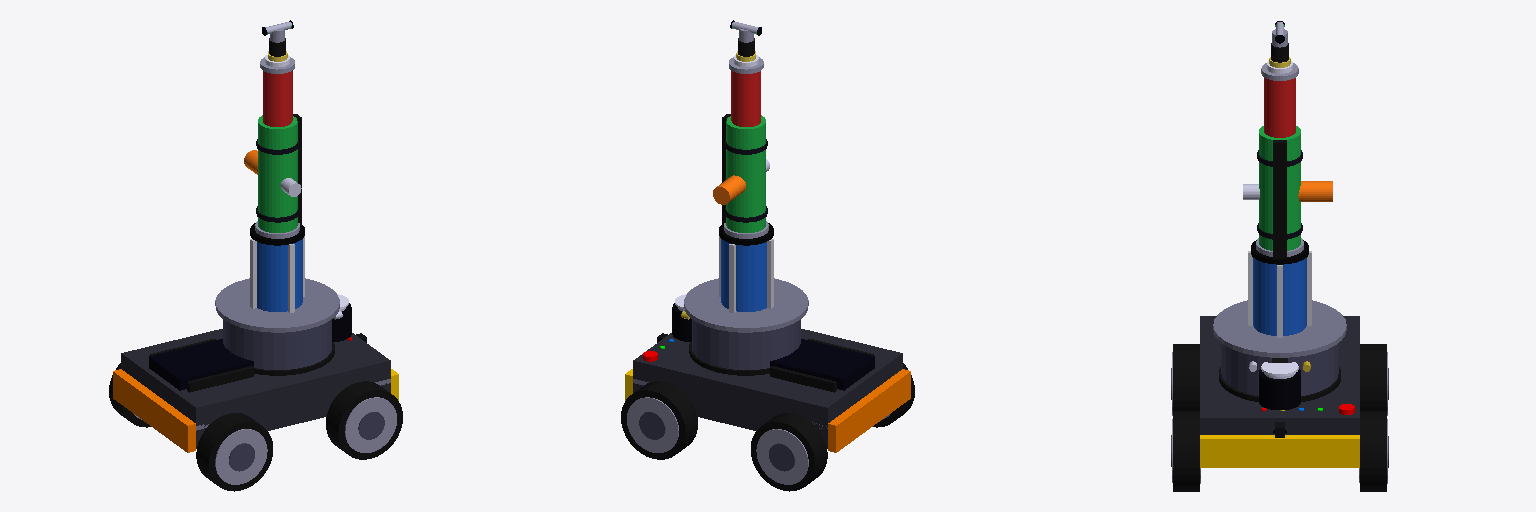
--- Render facts (derived) ---
Views: 3 orthographic renders of the robot side by side, from view 1: azimuth 30°, elevation 25°; view 2: azimuth 150°, elevation 25°; view 3: azimuth 270°, elevation 25°.
Model mobile_manipulator with 20 links and 19 joints (4 revolute, 5 continuous, 2 prismatic, 8 fixed), rooted at base_footprint, posed all joints at 0.
Links seen in each view (by area): view 1: chassis, arm_base_mount, arm_link_2, front_right_wheel, rear_right_wheel, arm_link_1, arm_link_3, lidar_3d_sensor; view 2: chassis, arm_base_mount, arm_link_2, front_left_wheel, rear_left_wheel, arm_link_1, arm_link_3, lidar_3d_sensor; view 3: chassis, arm_base_mount, arm_link_2, arm_link_1, arm_link_3, front_left_wheel, front_right_wheel, rear_left_wheel, rear_right_wheel, lidar_3d_sensor.
Boxes of the visible links, <box> form: chassis: <box>113,329,398,452</box>; arm_base_mount: <box>215,278,342,375</box>; arm_link_2: <box>244,114,301,232</box>; front_right_wheel: <box>326,381,402,459</box>; rear_right_wheel: <box>196,413,272,491</box>; arm_link_1: <box>250,221,304,312</box>; arm_link_3: <box>260,51,294,126</box>; lidar_3d_sensor: <box>332,294,351,341</box>; chassis: <box>625,329,910,452</box>; arm_base_mount: <box>681,278,808,375</box>; arm_link_2: <box>713,114,769,232</box>; front_left_wheel: <box>621,381,697,459</box>; rear_left_wheel: <box>751,413,827,491</box>; arm_link_1: <box>719,221,773,312</box>; arm_link_3: <box>729,51,763,126</box>; lidar_3d_sensor: <box>672,294,691,341</box>; chassis: <box>1200,316,1359,467</box>; arm_base_mount: <box>1213,300,1346,401</box>; arm_link_2: <box>1243,126,1332,258</box>; arm_link_1: <box>1248,238,1311,337</box>; arm_link_3: <box>1261,57,1298,137</box>; front_left_wheel: <box>1359,411,1388,491</box>; front_right_wheel: <box>1171,411,1200,491</box>; rear_left_wheel: <box>1360,344,1388,415</box>; rear_right_wheel: <box>1171,344,1199,415</box>; lidar_3d_sensor: <box>1259,362,1300,409</box>.
Bounding box of the posed robot: 0.99 × 0.8201 × 1.81 m (x, y, z).
Geometry: primitives only (box / cylinder / sphere), no mesh files.

URDF robot description (mobile_manipulator):
<?xml version="1.0"?>
<robot name="mobile_manipulator">

  <!-- Base Footprint - Virtual ground reference -->
  <link name="base_footprint">
    <!-- Virtual link for navigation -->
  </link>

  <!-- Advanced Chassis with Environmental Protection -->
  <link name="chassis">
    <!-- Main chassis body - ruggedized design -->
    <visual>
      <origin xyz="0 0 0.12" rpy="0 0 0"/>
      <geometry>
        <box size="0.9 0.6 0.18"/>
      </geometry>
      <material name="chassis_carbon_fiber">
        <color rgba="0.2 0.2 0.25 1.0"/>
      </material>
    </visual>
    
    <!-- Reinforcement ribs -->
    <visual>
      <origin xyz="0.4 0 0.12" rpy="0 0 0"/>
      <geometry>
        <box size="0.1 0.6 0.02"/>
      </geometry>
      <material name="reinforcement_steel">
        <color rgba="0.5 0.5 0.6 1.0"/>
      </material>
    </visual>
    
    <visual>
      <origin xyz="-0.4 0 0.12" rpy="0 0 0"/>
      <geometry>
        <box size="0.1 0.6 0.02"/>
      </geometry>
      <material name="reinforcement_steel">
        <color rgba="0.5 0.5 0.6 1.0"/>
      </material>
    </visual>
    
    <!-- Advanced front bumper with sensors -->
    <visual>
      <origin xyz="0.47 0 0.08" rpy="0 0 0"/>
      <geometry>
        <box size="0.04 0.6 0.12"/>
      </geometry>
      <material name="safety_yellow">
        <color rgba="1.0 0.8 0.0 1.0"/>
      </material>
    </visual>
    
    <!-- Rear bumper with reflectors -->
    <visual>
      <origin xyz="-0.47 0 0.08" rpy="0 0 0"/>
      <geometry>
        <box size="0.04 0.6 0.12"/>
      </geometry>
      <material name="safety_orange">
        <color rgba="1.0 0.5 0.0 1.0"/>
      </material>
    </visual>
    
    <!-- Emergency stop mushroom button -->
    <visual>
      <origin xyz="0.4 0.25 0.22" rpy="0 0 0"/>
      <geometry>
        <cylinder radius="0.03" length="0.02"/>
      </geometry>
      <material name="emergency_red">
        <color rgba="1.0 0.0 0.0 1.0"/>
      </material>
    </visual>
    
    <!-- Status LED array -->
    <visual>
      <origin xyz="0.4 0.15 0.22" rpy="0 0 0"/>
      <geometry>
        <cylinder radius="0.01" length="0.005"/>
      </geometry>
      <material name="led_power_green">
        <color rgba="0.0 1.0 0.0 1.0"/>
      </material>
    </visual>
    
    <visual>
      <origin xyz="0.4 0.08 0.22" rpy="0 0 0"/>
      <geometry>
        <cylinder radius="0.01" length="0.005"/>
      </geometry>
      <material name="led_network_blue">
        <color rgba="0.0 0.5 1.0 1.0"/>
      </material>
    </visual>
    
    <visual>
      <origin xyz="0.4 0.01 0.22" rpy="0 0 0"/>
      <geometry>
        <cylinder radius="0.01" length="0.005"/>
      </geometry>
      <material name="led_status_yellow">
        <color rgba="1.0 1.0 0.0 1.0"/>
      </material>
    </visual>
    
    <visual>
      <origin xyz="0.4 -0.06 0.22" rpy="0 0 0"/>
      <geometry>
        <cylinder radius="0.01" length="0.005"/>
      </geometry>
      <material name="led_error_red">
        <color rgba="1.0 0.0 0.0 1.0"/>
      </material>
    </visual>
    
    <!-- Advanced battery system -->
    <visual>
      <origin xyz="-0.25 0 0.22" rpy="0 0 0"/>
      <geometry>
        <box size="0.35 0.25 0.08"/>
      </geometry>
      <material name="battery_lithium">
        <color rgba="0.05 0.05 0.1 1.0"/>
      </material>
    </visual>
    
    <!-- Cooling vents -->
    <visual>
      <origin xyz="-0.25 0.15 0.22" rpy="0 0 0"/>
      <geometry>
        <box size="0.3 0.02 0.06"/>
      </geometry>
      <material name="vent_black">
        <color rgba="0.1 0.1 0.1 1.0"/>
      </material>
    </visual>
    
    <visual>
      <origin xyz="-0.25 -0.15 0.22" rpy="0 0 0"/>
      <geometry>
        <box size="0.3 0.02 0.06"/>
      </geometry>
      <material name="vent_black">
        <color rgba="0.1 0.1 0.1 1.0"/>
      </material>
    </visual>
    
    <!-- Onboard computer housing -->
    <visual>
      <origin xyz="0.15 0 0.22" rpy="0 0 0"/>
      <geometry>
        <box size="0.25 0.15 0.06"/>
      </geometry>
      <material name="computer_silver">
        <color rgba="0.7 0.7 0.8 1.0"/>
      </material>
    </visual>
    
    <collision>
      <origin xyz="0 0 0.12" rpy="0 0 0"/>
      <geometry>
        <box size="0.9 0.6 0.18"/>
      </geometry>
    </collision>
    <inertial>
      <origin xyz="0 0 0.12" rpy="0 0 0"/>
      <mass value="45.0"/>
      <inertia ixx="2.5" ixy="0" ixz="0" iyy="4.0" iyz="0" izz="5.5"/>
    </inertial>
  </link>

  <!-- Advanced All-Terrain Wheels -->
  <link name="front_left_wheel">
    <!-- Main tire with tread pattern -->
    <visual>
      <origin xyz="0 0 0" rpy="1.57 0 0"/>
      <geometry>
        <cylinder radius="0.15" length="0.1"/>
      </geometry>
      <material name="tire_aggressive">
        <color rgba="0.1 0.1 0.1 1.0"/>
      </material>
    </visual>
    
    <!-- Reinforced rim -->
    <visual>
      <origin xyz="0 0 0" rpy="1.57 0 0"/>
      <geometry>
        <cylinder radius="0.12" length="0.11"/>
      </geometry>
      <material name="rim_titanium">
        <color rgba="0.6 0.6 0.7 1.0"/>
      </material>
    </visual>
    
    <!-- Hub with integrated motor -->
    <visual>
      <origin xyz="0 0 0" rpy="1.57 0 0"/>
      <geometry>
        <cylinder radius="0.06" length="0.12"/>
      </geometry>
      <material name="hub_motor">
        <color rgba="0.3 0.3 0.4 1.0"/>
      </material>
    </visual>
    
    <!-- Brake disc -->
    <visual>
      <origin xyz="0 0 0.06" rpy="1.57 0 0"/>
      <geometry>
        <cylinder radius="0.08" length="0.008"/>
      </geometry>
      <material name="brake_steel">
        <color rgba="0.4 0.4 0.5 1.0"/>
      </material>
    </visual>
    
    <collision>
      <origin xyz="0 0 0" rpy="1.57 0 0"/>
      <geometry>
        <cylinder radius="0.15" length="0.1"/>
      </geometry>
    </collision>
    <inertial>
      <origin xyz="0 0 0" rpy="0 0 0"/>
      <mass value="4.5"/>
      <inertia ixx="0.05" ixy="0" ixz="0" iyy="0.05" iyz="0" izz="0.05"/>
    </inertial>
  </link>

  <!-- Copy advanced wheel design for other wheels -->
  <link name="front_right_wheel">
    <visual>
      <origin xyz="0 0 0" rpy="1.57 0 0"/>
      <geometry>
        <cylinder radius="0.15" length="0.1"/>
      </geometry>
      <material name="tire_aggressive">
        <color rgba="0.1 0.1 0.1 1.0"/>
      </material>
    </visual>
    <visual>
      <origin xyz="0 0 0" rpy="1.57 0 0"/>
      <geometry>
        <cylinder radius="0.12" length="0.11"/>
      </geometry>
      <material name="rim_titanium">
        <color rgba="0.6 0.6 0.7 1.0"/>
      </material>
    </visual>
    <visual>
      <origin xyz="0 0 0" rpy="1.57 0 0"/>
      <geometry>
        <cylinder radius="0.06" length="0.12"/>
      </geometry>
      <material name="hub_motor">
        <color rgba="0.3 0.3 0.4 1.0"/>
      </material>
    </visual>
    <visual>
      <origin xyz="0 0 0.06" rpy="1.57 0 0"/>
      <geometry>
        <cylinder radius="0.08" length="0.008"/>
      </geometry>
      <material name="brake_steel">
        <color rgba="0.4 0.4 0.5 1.0"/>
      </material>
    </visual>
    <collision>
      <origin xyz="0 0 0" rpy="1.57 0 0"/>
      <geometry>
        <cylinder radius="0.15" length="0.1"/>
      </geometry>
    </collision>
    <inertial>
      <origin xyz="0 0 0" rpy="0 0 0"/>
      <mass value="4.5"/>
      <inertia ixx="0.05" ixy="0" ixz="0" iyy="0.05" iyz="0" izz="0.05"/>
    </inertial>
  </link>

  <link name="rear_left_wheel">
    <visual>
      <origin xyz="0 0 0" rpy="1.57 0 0"/>
      <geometry>
        <cylinder radius="0.15" length="0.1"/>
      </geometry>
      <material name="tire_aggressive">
        <color rgba="0.1 0.1 0.1 1.0"/>
      </material>
    </visual>
    <visual>
      <origin xyz="0 0 0" rpy="1.57 0 0"/>
      <geometry>
        <cylinder radius="0.12" length="0.11"/>
      </geometry>
      <material name="rim_titanium">
        <color rgba="0.6 0.6 0.7 1.0"/>
      </material>
    </visual>
    <visual>
      <origin xyz="0 0 0" rpy="1.57 0 0"/>
      <geometry>
        <cylinder radius="0.06" length="0.12"/>
      </geometry>
      <material name="hub_motor">
        <color rgba="0.3 0.3 0.4 1.0"/>
      </material>
    </visual>
    <visual>
      <origin xyz="0 0 0.06" rpy="1.57 0 0"/>
      <geometry>
        <cylinder radius="0.08" length="0.008"/>
      </geometry>
      <material name="brake_steel">
        <color rgba="0.4 0.4 0.5 1.0"/>
      </material>
    </visual>
    <collision>
      <origin xyz="0 0 0" rpy="1.57 0 0"/>
      <geometry>
        <cylinder radius="0.15" length="0.1"/>
      </geometry>
    </collision>
    <inertial>
      <origin xyz="0 0 0" rpy="0 0 0"/>
      <mass value="4.5"/>
      <inertia ixx="0.05" ixy="0" ixz="0" iyy="0.05" iyz="0" izz="0.05"/>
    </inertial>
  </link>

  <link name="rear_right_wheel">
    <visual>
      <origin xyz="0 0 0" rpy="1.57 0 0"/>
      <geometry>
        <cylinder radius="0.15" length="0.1"/>
      </geometry>
      <material name="tire_aggressive">
        <color rgba="0.1 0.1 0.1 1.0"/>
      </material>
    </visual>
    <visual>
      <origin xyz="0 0 0" rpy="1.57 0 0"/>
      <geometry>
        <cylinder radius="0.12" length="0.11"/>
      </geometry>
      <material name="rim_titanium">
        <color rgba="0.6 0.6 0.7 1.0"/>
      </material>
    </visual>
    <visual>
      <origin xyz="0 0 0" rpy="1.57 0 0"/>
      <geometry>
        <cylinder radius="0.06" length="0.12"/>
      </geometry>
      <material name="hub_motor">
        <color rgba="0.3 0.3 0.4 1.0"/>
      </material>
    </visual>
    <visual>
      <origin xyz="0 0 0.06" rpy="1.57 0 0"/>
      <geometry>
        <cylinder radius="0.08" length="0.008"/>
      </geometry>
      <material name="brake_steel">
        <color rgba="0.4 0.4 0.5 1.0"/>
      </material>
    </visual>
    <collision>
      <origin xyz="0 0 0" rpy="1.57 0 0"/>
      <geometry>
        <cylinder radius="0.15" length="0.1"/>
      </geometry>
    </collision>
    <inertial>
      <origin xyz="0 0 0" rpy="0 0 0"/>
      <mass value="4.5"/>
      <inertia ixx="0.05" ixy="0" ixz="0" iyy="0.05" iyz="0" izz="0.05"/>
    </inertial>
  </link>

  <!-- Advanced Arm Mount Tower with Vibration Isolation -->
  <link name="arm_base_mount">
    <!-- Main mount tower -->
    <visual>
      <origin xyz="0 0 0.1" rpy="0 0 0"/>
      <geometry>
        <cylinder radius="0.22" length="0.2"/>
      </geometry>
      <material name="mount_aerospace">
        <color rgba="0.3 0.3 0.4 1.0"/>
      </material>
    </visual>
    
    <!-- Vibration isolation ring -->
    <visual>
      <origin xyz="0 0 0.01" rpy="0 0 0"/>
      <geometry>
        <cylinder radius="0.23" length="0.02"/>
      </geometry>
      <material name="damper_rubber">
        <color rgba="0.1 0.1 0.1 1.0"/>
      </material>
    </visual>
    
    <!-- Precision mount plate -->
    <visual>
      <origin xyz="0 0 0.21" rpy="0 0 0"/>
      <geometry>
        <cylinder radius="0.25" length="0.02"/>
      </geometry>
      <material name="precision_steel">
        <color rgba="0.5 0.5 0.6 1.0"/>
      </material>
    </visual>
    
    <!-- Cable management system -->
    <visual>
      <origin xyz="0.18 0 0.1" rpy="0 0 0"/>
      <geometry>
        <box size="0.08 0.06 0.2"/>
      </geometry>
      <material name="cable_carrier">
        <color rgba="0.15 0.15 0.15 1.0"/>
      </material>
    </visual>
    
    <!-- Power/data connectors -->
    <visual>
      <origin xyz="0.22 0.1 0.15" rpy="0 1.57 0"/>
      <geometry>
        <cylinder radius="0.015" length="0.03"/>
      </geometry>
      <material name="connector_gold">
        <color rgba="0.8 0.7 0.2 1.0"/>
      </material>
    </visual>
    
    <visual>
      <origin xyz="0.22 -0.1 0.15" rpy="0 1.57 0"/>
      <geometry>
        <cylinder radius="0.015" length="0.03"/>
      </geometry>
      <material name="connector_silver">
        <color rgba="0.8 0.8 0.9 1.0"/>
      </material>
    </visual>
    
    <collision>
      <origin xyz="0 0 0.1" rpy="0 0 0"/>
      <geometry>
        <cylinder radius="0.22" length="0.2"/>
      </geometry>
    </collision>
    <inertial>
      <origin xyz="0 0 0.1" rpy="0 0 0"/>
      <mass value="8.5"/>
      <inertia ixx="0.12" ixy="0" ixz="0" iyy="0.12" iyz="0" izz="0.18"/>
    </inertial>
  </link>

  <!-- Professional 6-DOF Manipulator Arm -->
  
  <!-- Shoulder/Base Link - Enhanced Design -->
  <link name="arm_link_1">
    <!-- Main shoulder housing with integrated sensors -->
    <visual>
      <origin xyz="0 0 0.15" rpy="0 0 0"/>
      <geometry>
        <cylinder radius="0.1" length="0.3"/>
      </geometry>
      <material name="arm_blue_aerospace">
        <color rgba="0.15 0.4 0.8 1.0"/>
      </material>
    </visual>
    
    <!-- Joint encoder housing -->
    <visual>
      <origin xyz="0 0 0.31" rpy="0 0 0"/>
      <geometry>
        <cylinder radius="0.11" length="0.02"/>
      </geometry>
      <material name="encoder_black">
        <color rgba="0.05 0.05 0.05 1.0"/>
      </material>
    </visual>
    
    <!-- Advanced cooling system -->
    <visual>
      <origin xyz="0.11 0 0.15" rpy="0 1.57 0"/>
      <geometry>
        <box size="0.3 0.02 0.02"/>
      </geometry>
      <material name="heatsink_aluminum">
        <color rgba="0.8 0.8 0.85 1.0"/>
      </material>
    </visual>
    
    <visual>
      <origin xyz="-0.11 0 0.15" rpy="0 1.57 0"/>
      <geometry>
        <box size="0.3 0.02 0.02"/>
      </geometry>
      <material name="heatsink_aluminum">
        <color rgba="0.8 0.8 0.85 1.0"/>
      </material>
    </visual>
    
    <visual>
      <origin xyz="0 0.11 0.15" rpy="1.57 0 0"/>
      <geometry>
        <box size="0.02 0.3 0.02"/>
      </geometry>
      <material name="heatsink_aluminum">
        <color rgba="0.8 0.8 0.85 1.0"/>
      </material>
    </visual>
    
    <visual>
      <origin xyz="0 -0.11 0.15" rpy="1.57 0 0"/>
      <geometry>
        <box size="0.02 0.3 0.02"/>
      </geometry>
      <material name="heatsink_aluminum">
        <color rgba="0.8 0.8 0.85 1.0"/>
      </material>
    </visual>
    
    <!-- Servo motor housing -->
    <visual>
      <origin xyz="0 0 0.32" rpy="0 0 0"/>
      <geometry>
        <cylinder radius="0.09" length="0.04"/>
      </geometry>
      <material name="servo_titanium">
        <color rgba="0.6 0.6 0.7 1.0"/>
      </material>
    </visual>
    
    <collision>
      <origin xyz="0 0 0.15" rpy="0 0 0"/>
      <geometry>
        <cylinder radius="0.1" length="0.3"/>
      </geometry>
    </collision>
    <inertial>
      <origin xyz="0 0 0.15" rpy="0 0 0"/>
      <mass value="6.5"/>
      <inertia ixx="0.08" ixy="0" ixz="0" iyy="0.08" iyz="0" izz="0.03"/>
    </inertial>
  </link>

  <!-- Upper Arm Link - Extended Reach -->
  <link name="arm_link_2">
    <!-- Main arm segment -->
    <visual>
      <origin xyz="0 0 0.25" rpy="0 0 0"/>
      <geometry>
        <cylinder radius="0.08" length="0.5"/>
      </geometry>
      <material name="arm_green_aerospace">
        <color rgba="0.15 0.7 0.3 1.0"/>
      </material>
    </visual>
    
    <!-- Structural reinforcement rings -->
    <visual>
      <origin xyz="0 0 0.1" rpy="0 0 0"/>
      <geometry>
        <cylinder radius="0.085" length="0.02"/>
      </geometry>
      <material name="reinforcement_carbon">
        <color rgba="0.1 0.1 0.15 1.0"/>
      </material>
    </visual>
    
    <visual>
      <origin xyz="0 0 0.4" rpy="0 0 0"/>
      <geometry>
        <cylinder radius="0.085" length="0.02"/>
      </geometry>
      <material name="reinforcement_carbon">
        <color rgba="0.1 0.1 0.15 1.0"/>
      </material>
    </visual>
    
    <!-- High-torque servo actuator -->
    <visual>
      <origin xyz="0 0.1 0.25" rpy="1.57 0 0"/>
      <geometry>
        <cylinder radius="0.04" length="0.2"/>
      </geometry>
      <material name="servo_orange">
        <color rgba="1.0 0.5 0.1 1.0"/>
      </material>
    </visual>
    
    <!-- Position feedback system -->
    <visual>
      <origin xyz="0 -0.1 0.25" rpy="1.57 0 0"/>
      <geometry>
        <cylinder radius="0.03" length="0.08"/>
      </geometry>
      <material name="encoder_platinum">
        <color rgba="0.8 0.8 0.9 1.0"/>
      </material>
    </visual>
    
    <!-- Advanced cable carrier -->
    <visual>
      <origin xyz="0.09 0 0.25" rpy="0 0 0"/>
      <geometry>
        <box size="0.02 0.05 0.5"/>
      </geometry>
      <material name="cable_carrier_flex">
        <color rgba="0.1 0.1 0.1 1.0"/>
      </material>
    </visual>
    
    <collision>
      <origin xyz="0 0 0.25" rpy="0 0 0"/>
      <geometry>
        <cylinder radius="0.08" length="0.5"/>
      </geometry>
    </collision>
    <inertial>
      <origin xyz="0 0 0.25" rpy="0 0 0"/>
      <mass value="5.2"/>
      <inertia ixx="0.12" ixy="0" ixz="0" iyy="0.12" iyz="0" izz="0.02"/>
    </inertial>
  </link>

  <!-- Forearm Link - Multi-DOF Wrist Assembly -->
  <link name="arm_link_3">
    <!-- Main forearm -->
    <visual>
      <origin xyz="0 0 0.12" rpy="0 0 0"/>
      <geometry>
        <cylinder radius="0.06" length="0.24"/>
      </geometry>
      <material name="arm_red_aerospace">
        <color rgba="0.8 0.15 0.15 1.0"/>
      </material>
    </visual>
    
    <!-- Wrist joint assembly -->
    <visual>
      <origin xyz="0 0 0.25" rpy="0 0 0"/>
      <geometry>
        <cylinder radius="0.07" length="0.02"/>
      </geometry>
      <material name="wrist_titanium">
        <color rgba="0.6 0.6 0.7 1.0"/>
      </material>
    </visual>
    
    <!-- Force/torque sensor -->
    <visual>
      <origin xyz="0 0 0.27" rpy="0 0 0"/>
      <geometry>
        <cylinder radius="0.05" length="0.02"/>
      </geometry>
      <material name="sensor_platinum">
        <color rgba="0.9 0.9 1.0 1.0"/>
      </material>
    </visual>
    
    <!-- Tool interface -->
    <visual>
      <origin xyz="0 0 0.29" rpy="0 0 0"/>
      <geometry>
        <cylinder radius="0.04" length="0.02"/>
      </geometry>
      <material name="interface_gold">
        <color rgba="0.9 0.8 0.3 1.0"/>
      </material>
    </visual>
    
    <collision>
      <origin xyz="0 0 0.12" rpy="0 0 0"/>
      <geometry>
        <cylinder radius="0.06" length="0.24"/>
      </geometry>
    </collision>
    <inertial>
      <origin xyz="0 0 0.12" rpy="0 0 0"/>
      <mass value="3.8"/>
      <inertia ixx="0.02" ixy="0" ixz="0" iyy="0.02" iyz="0" izz="0.008"/>
    </inertial>
  </link>

  <!-- Wrist Roll Link -->
  <link name="wrist_roll_link">
    <visual>
      <origin xyz="0 0 0.03" rpy="0 0 0"/>
      <geometry>
        <cylinder radius="0.035" length="0.06"/>
      </geometry>
      <material name="wrist_black">
        <color rgba="0.1 0.1 0.1 1.0"/>
      </material>
    </visual>
    
    <collision>
      <origin xyz="0 0 0.03" rpy="0 0 0"/>
      <geometry>
        <cylinder radius="0.035" length="0.06"/>
      </geometry>
    </collision>
    <inertial>
      <origin xyz="0 0 0.03" rpy="0 0 0"/>
      <mass value="1.2"/>
      <inertia ixx="0.003" ixy="0" ixz="0" iyy="0.003" iyz="0" izz="0.002"/>
    </inertial>
  </link>

  <!-- Wrist Pitch Link -->
  <link name="wrist_pitch_link">
    <visual>
      <origin xyz="0 0 0.025" rpy="0 0 0"/>
      <geometry>
        <cylinder radius="0.03" length="0.05"/>
      </geometry>
      <material name="wrist_titanium">
        <color rgba="0.6 0.6 0.7 1.0"/>
      </material>
    </visual>
    
    <collision>
      <origin xyz="0 0 0.025" rpy="0 0 0"/>
      <geometry>
        <cylinder radius="0.03" length="0.05"/>
      </geometry>
    </collision>
    <inertial>
      <origin xyz="0 0 0.025" rpy="0 0 0"/>
      <mass value="0.8"/>
      <inertia ixx="0.001" ixy="0" ixz="0" iyy="0.001" iyz="0" izz="0.001"/>
    </inertial>
  </link>

  <!-- Advanced Adaptive Gripper -->
  <link name="gripper_finger_1">
    <!-- Main finger structure -->
    <visual>
      <origin xyz="0.03 0 0" rpy="0 1.57 0"/>
      <geometry>
        <cylinder radius="0.015" length="0.06"/>
      </geometry>
      <material name="gripper_titanium">
        <color rgba="0.7 0.7 0.8 1.0"/>
      </material>
    </visual>
    
    <!-- Adaptive grip surface with sensors -->
    <visual>
      <origin xyz="0.062 0 0" rpy="0 1.57 0"/>
      <geometry>
        <cylinder radius="0.018" length="0.004"/>
      </geometry>
      <material name="grip_smart">
        <color rgba="0.05 0.05 0.1 1.0"/>
      </material>
    </visual>
    
    <!-- Integrated force sensor -->
    <visual>
      <origin xyz="0.058 0 0" rpy="0 1.57 0"/>
      <geometry>
        <cylinder radius="0.012" length="0.008"/>
      </geometry>
      <material name="sensor_crystal">
        <color rgba="0.8 0.9 1.0 1.0"/>
      </material>
    </visual>
    
    <!-- Tactile sensor array -->
    <visual>
      <origin xyz="0.055 0.015 0" rpy="0 1.57 0"/>
      <geometry>
        <cylinder radius="0.004" length="0.002"/>
      </geometry>
      <material name="sensor_green">
        <color rgba="0.0 0.8 0.2 1.0"/>
      </material>
    </visual>
    
    <visual>
      <origin xyz="0.055 -0.015 0" rpy="0 1.57 0"/>
      <geometry>
        <cylinder radius="0.004" length="0.002"/>
      </geometry>
      <material name="sensor_green">
        <color rgba="0.0 0.8 0.2 1.0"/>
      </material>
    </visual>
    
    <collision>
      <origin xyz="0.03 0 0" rpy="0 1.57 0"/>
      <geometry>
        <cylinder radius="0.015" length="0.06"/>
      </geometry>
    </collision>
    <inertial>
      <origin xyz="0.03 0 0" rpy="0 0 0"/>
      <mass value="0.4"/>
      <inertia ixx="0.0005" ixy="0" ixz="0" iyy="0.0005" iyz="0" izz="0.0003"/>
    </inertial>
  </link>

  <link name="gripper_finger_2">
    <!-- Main finger structure -->
    <visual>
      <origin xyz="-0.03 0 0" rpy="0 1.57 0"/>
      <geometry>
        <cylinder radius="0.015" length="0.06"/>
      </geometry>
      <material name="gripper_titanium">
        <color rgba="0.7 0.7 0.8 1.0"/>
      </material>
    </visual>
    
    <!-- Adaptive grip surface with sensors -->
    <visual>
      <origin xyz="-0.062 0 0" rpy="0 1.57 0"/>
      <geometry>
        <cylinder radius="0.018" length="0.004"/>
      </geometry>
      <material name="grip_smart">
        <color rgba="0.05 0.05 0.1 1.0"/>
      </material>
    </visual>
    
    <!-- Integrated force sensor -->
    <visual>
      <origin xyz="-0.058 0 0" rpy="0 1.57 0"/>
      <geometry>
        <cylinder radius="0.012" length="0.008"/>
      </geometry>
      <material name="sensor_crystal">
        <color rgba="0.8 0.9 1.0 1.0"/>
      </material>
    </visual>
    
    <!-- Tactile sensor array -->
    <visual>
      <origin xyz="-0.055 0.015 0" rpy="0 1.57 0"/>
      <geometry>
        <cylinder radius="0.004" length="0.002"/>
      </geometry>
      <material name="sensor_green">
        <color rgba="0.0 0.8 0.2 1.0"/>
      </material>
    </visual>
    
    <visual>
      <origin xyz="-0.055 -0.015 0" rpy="0 1.57 0"/>
      <geometry>
        <cylinder radius="0.004" length="0.002"/>
      </geometry>
      <material name="sensor_green">
        <color rgba="0.0 0.8 0.2 1.0"/>
      </material>
    </visual>
    
    <collision>
      <origin xyz="-0.03 0 0" rpy="0 1.57 0"/>
      <geometry>
        <cylinder radius="0.015" length="0.06"/>
      </geometry>
    </collision>
    <inertial>
      <origin xyz="-0.03 0 0" rpy="0 0 0"/>
      <mass value="0.4"/>
      <inertia ixx="0.0005" ixy="0" ixz="0" iyy="0.0005" iyz="0" izz="0.0003"/>
    </inertial>
  </link>

  <!-- Advanced Sensor Suite -->
  
  <!-- 3D LIDAR Sensor -->
  <link name="lidar_3d_sensor">
    <visual>
      <origin xyz="0 0 0.06" rpy="0 0 0"/>
      <geometry>
        <cylinder radius="0.08" length="0.12"/>
      </geometry>
      <material name="lidar_professional">
        <color rgba="0.05 0.05 0.08 1.0"/>
      </material>
    </visual>
    
    <!-- Spinning mirror assembly -->
    <visual>
      <origin xyz="0 0 0.13" rpy="0 0 0"/>
      <geometry>
        <cylinder radius="0.06" length="0.02"/>
      </geometry>
      <material name="mirror_assembly">
        <color rgba="0.8 0.8 0.9 1.0"/>
      </material>
    </visual>
    
    <!-- Protective dome -->
    <visual>
      <origin xyz="0 0 0.14" rpy="0 0 0"/>
      <geometry>
        <cylinder radius="0.07" length="0.01"/>
      </geometry>
      <material name="protective_glass">
        <color rgba="0.9 0.9 1.0 0.7"/>
      </material>
    </visual>
    
    <collision>
      <origin xyz="0 0 0.06" rpy="0 0 0"/>
      <geometry>
        <cylinder radius="0.08" length="0.12"/>
      </geometry>
    </collision>
    <inertial>
      <origin xyz="0 0 0.06" rpy="0 0 0"/>
      <mass value="1.5"/>
      <inertia ixx="0.008" ixy="0" ixz="0" iyy="0.008" iyz="0" izz="0.006"/>
    </inertial>
  </link>

  <!-- Stereo Camera System -->
  <link name="stereo_camera">
    <visual>
      <origin xyz="0 0 0.02" rpy="0 0 0"/>
      <geometry>
        <box size="0.12 0.04 0.04"/>
      </geometry>
      <material name="camera_housing">
        <color rgba="0.1 0.1 0.12 1.0"/>
      </material>
    </visual>
    
    <!-- Left camera lens -->
    <visual>
      <origin xyz="0.05 0.015 0.02" rpy="0 0 0"/>
      <geometry>
        <cylinder radius="0.01" length="0.005"/>
      </geometry>
      <material name="lens_black">
        <color rgba="0.02 0.02 0.02 1.0"/>
      </material>
    </visual>
    
    <!-- Right camera lens -->
    <visual>
      <origin xyz="0.05 -0.015 0.02" rpy="0 0 0"/>
      <geometry>
        <cylinder radius="0.01" length="0.005"/>
      </geometry>
      <material name="lens_black">
        <color rgba="0.02 0.02 0.02 1.0"/>
      </material>
    </visual>
    
    <collision>
      <origin xyz="0 0 0.02" rpy="0 0 0"/>
      <geometry>
        <box size="0.12 0.04 0.04"/>
      </geometry>
    </collision>
    <inertial>
      <origin xyz="0 0 0.02" rpy="0 0 0"/>
      <mass value="0.3"/>
      <inertia ixx="0.0008" ixy="0" ixz="0" iyy="0.0012" iyz="0" izz="0.0008"/>
    </inertial>
  </link>

  <!-- IMU Sensor -->
  <link name="imu_sensor">
    <visual>
      <origin xyz="0 0 0.01" rpy="0 0 0"/>
      <geometry>
        <box size="0.03 0.03 0.02"/>
      </geometry>
      <material name="imu_circuit">
        <color rgba="0.0 0.3 0.0 1.0"/>
      </material>
    </visual>
    
    <collision>
      <origin xyz="0 0 0.01" rpy="0 0 0"/>
      <geometry>
        <box size="0.03 0.03 0.02"/>
      </geometry>
    </collision>
    <inertial>
      <origin xyz="0 0 0.01" rpy="0 0 0"/>
      <mass value="0.05"/>
      <inertia ixx="0.00001" ixy="0" ixz="0" iyy="0.00001" iyz="0" izz="0.00001"/>
    </inertial>
  </link>

  <!-- Ultrasonic Sensor Array -->
  <link name="ultrasonic_front_left">
    <visual>
      <origin xyz="0 0 0.01" rpy="0 0 0"/>
      <geometry>
        <cylinder radius="0.012" length="0.02"/>
      </geometry>
      <material name="ultrasonic_silver">
        <color rgba="0.7 0.7 0.8 1.0"/>
      </material>
    </visual>
    
    <collision>
      <origin xyz="0 0 0.01" rpy="0 0 0"/>
      <geometry>
        <cylinder radius="0.012" length="0.02"/>
      </geometry>
    </collision>
    <inertial>
      <origin xyz="0 0 0.01" rpy="0 0 0"/>
      <mass value="0.02"/>
      <inertia ixx="0.000001" ixy="0" ixz="0" iyy="0.000001" iyz="0" izz="0.000001"/>
    </inertial>
  </link>

  <link name="ultrasonic_front_right">
    <visual>
      <origin xyz="0 0 0.01" rpy="0 0 0"/>
      <geometry>
        <cylinder radius="0.012" length="0.02"/>
      </geometry>
      <material name="ultrasonic_silver">
        <color rgba="0.7 0.7 0.8 1.0"/>
      </material>
    </visual>
    
    <collision>
      <origin xyz="0 0 0.01" rpy="0 0 0"/>
      <geometry>
        <cylinder radius="0.012" length="0.02"/>
      </geometry>
    </collision>
    <inertial>
      <origin xyz="0 0 0.01" rpy="0 0 0"/>
      <mass value="0.02"/>
      <inertia ixx="0.000001" ixy="0" ixz="0" iyy="0.000001" iyz="0" izz="0.000001"/>
    </inertial>
  </link>

  <link name="ultrasonic_rear">
    <visual>
      <origin xyz="0 0 0.01" rpy="0 0 0"/>
      <geometry>
        <cylinder radius="0.012" length="0.02"/>
      </geometry>
      <material name="ultrasonic_silver">
        <color rgba="0.7 0.7 0.8 1.0"/>
      </material>
    </visual>
    
    <collision>
      <origin xyz="0 0 0.01" rpy="0 0 0"/>
      <geometry>
        <cylinder radius="0.012" length="0.02"/>
      </geometry>
    </collision>
    <inertial>
      <origin xyz="0 0 0.01" rpy="0 0 0"/>
      <mass value="0.02"/>
      <inertia ixx="0.000001" ixy="0" ixz="0" iyy="0.000001" iyz="0" izz="0.000001"/>
    </inertial>
  </link>

<!-- JOINTS SECTION -->

  <!-- Mobile Base Joints -->
  <joint name="base_footprint_to_chassis" type="fixed">
    <parent link="base_footprint"/>
    <child link="chassis"/>
    <origin xyz="0 0 0.15" rpy="0 0 0"/>
  </joint>

  <!-- High-Performance Wheel Joints -->
  <joint name="front_left_wheel_joint" type="continuous">
    <parent link="chassis"/>
    <child link="front_left_wheel"/>
    <origin xyz="0.3 0.35 0" rpy="0 0 0"/>
    <axis xyz="0 1 0"/>
    <dynamics damping="0.4" friction="0.5"/>
  </joint>

  <joint name="front_right_wheel_joint" type="continuous">
    <parent link="chassis"/>
    <child link="front_right_wheel"/>
    <origin xyz="0.3 -0.35 0" rpy="0 0 0"/>
    <axis xyz="0 1 0"/>
    <dynamics damping="0.4" friction="0.5"/>
  </joint>

  <joint name="rear_left_wheel_joint" type="continuous">
    <parent link="chassis"/>
    <child link="rear_left_wheel"/>
    <origin xyz="-0.3 0.35 0" rpy="0 0 0"/>
    <axis xyz="0 1 0"/>
    <dynamics damping="0.4" friction="0.5"/>
  </joint>

  <joint name="rear_right_wheel_joint" type="continuous">
    <parent link="chassis"/>
    <child link="rear_right_wheel"/>
    <origin xyz="-0.3 -0.35 0" rpy="0 0 0"/>
    <axis xyz="0 1 0"/>
    <dynamics damping="0.4" friction="0.5"/>
  </joint>

  <!-- Advanced Arm Mount -->
  <joint name="arm_mount_joint" type="fixed">
    <parent link="chassis"/>
    <child link="arm_base_mount"/>
    <origin xyz="0.1 0 0.21" rpy="0 0 0"/>
  </joint>

  <!-- Professional 6-DOF Arm Joints -->
  <joint name="arm_base_joint" type="revolute">
    <parent link="arm_base_mount"/>
    <child link="arm_link_1"/>
    <origin xyz="0 0 0.22" rpy="0 0 0"/>
    <axis xyz="0 0 1"/>
    <limit lower="-3.14159" upper="3.14159" effort="300" velocity="3.0"/>
    <dynamics damping="0.5" friction="0.3"/>
  </joint>

  <joint name="arm_shoulder_joint" type="revolute">
    <parent link="arm_link_1"/>
    <child link="arm_link_2"/>
    <origin xyz="0 0 0.3" rpy="0 0 0"/>
    <axis xyz="0 1 0"/>
    <limit lower="-2.5" upper="2.5" effort="250" velocity="2.5"/>
    <dynamics damping="0.5" friction="0.3"/>
  </joint>

  <joint name="arm_elbow_joint" type="revolute">
    <parent link="arm_link_2"/>
    <child link="arm_link_3"/>
    <origin xyz="0 0 0.5" rpy="0 0 0"/>
    <axis xyz="0 1 0"/>
    <limit lower="-2.8" upper="2.8" effort="180" velocity="3.0"/>
    <dynamics damping="0.4" friction="0.25"/>
  </joint>

  <!-- Wrist Joints for Full 6-DOF -->
  <joint name="wrist_roll_joint" type="continuous">
    <parent link="arm_link_3"/>
    <child link="wrist_roll_link"/>
    <origin xyz="0 0 0.3" rpy="0 0 0"/>
    <axis xyz="0 0 1"/>
    <dynamics damping="0.2" friction="0.1"/>
  </joint>

  <joint name="wrist_pitch_joint" type="revolute">
    <parent link="wrist_roll_link"/>
    <child link="wrist_pitch_link"/>
    <origin xyz="0 0 0.06" rpy="0 0 0"/>
    <axis xyz="0 1 0"/>
    <limit lower="-1.8" upper="1.8" effort="80" velocity="4.0"/>
    <dynamics damping="0.2" friction="0.1"/>
  </joint>

  <!-- FIXED: Proper Gripper Joints - No conflicting parent-child relationships -->
  <joint name="gripper_joint_1" type="prismatic">
    <parent link="wrist_pitch_link"/>
    <child link="gripper_finger_1"/>
    <origin xyz="0 0 0.05" rpy="0 0 0"/>
    <axis xyz="1 0 0"/>
    <limit lower="0" upper="0.08" effort="50" velocity="1.2"/>
    <dynamics damping="0.2" friction="0.1"/>
  </joint>

  <joint name="gripper_joint_2" type="prismatic">
    <parent link="wrist_pitch_link"/>
    <child link="gripper_finger_2"/>
    <origin xyz="0 0 0.05" rpy="0 0 0"/>
    <axis xyz="1 0 0"/>
    <limit lower="-0.08" upper="0" effort="50" velocity="1.2"/>
    <dynamics damping="0.2" friction="0.1"/>
  </joint>

  <!-- Sensor Mounts -->
  <joint name="lidar_joint" type="fixed">
    <parent link="chassis"/>
    <child link="lidar_3d_sensor"/>
    <origin xyz="0.35 0 0.23" rpy="0 0 0"/>
  </joint>

  <joint name="stereo_camera_joint" type="fixed">
    <parent link="chassis"/>
    <child link="stereo_camera"/>
    <origin xyz="0.44 0 0.15" rpy="0 0 0"/>
  </joint>

  <joint name="imu_joint" type="fixed">
    <parent link="chassis"/>
    <child link="imu_sensor"/>
    <origin xyz="0 0 0.25" rpy="0 0 0"/>
  </joint>

  <joint name="ultrasonic_front_left_joint" type="fixed">
    <parent link="chassis"/>
    <child link="ultrasonic_front_left"/>
    <origin xyz="0.45 0.2 0.1" rpy="0 0 0.5"/>
  </joint>

  <joint name="ultrasonic_front_right_joint" type="fixed">
    <parent link="chassis"/>
    <child link="ultrasonic_front_right"/>
    <origin xyz="0.45 -0.2 0.1" rpy="0 0 -0.5"/>
  </joint>

  <joint name="ultrasonic_rear_joint" type="fixed">
    <parent link="chassis"/>
    <child link="ultrasonic_rear"/>
    <origin xyz="-0.45 0 0.1" rpy="0 0 3.14159"/>
  </joint>

</robot>
